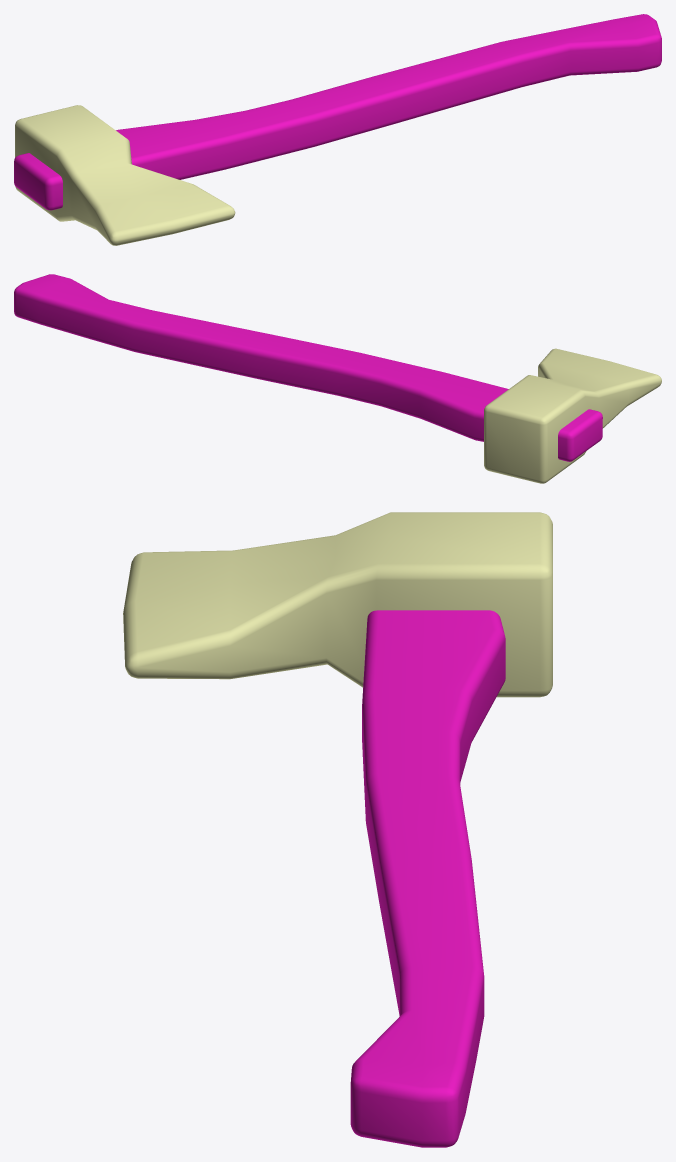
File: CottageHouseFairy5Axe.fbx
3 views of the same model, one above another, from view 1: azimuth 30°, elevation 25°; view 2: azimuth 150°, elevation 25°; view 3: azimuth 270°, elevation 25° (orthographic). The views are drawn at different scales.
Parts seen in each view (by area): view 1: Cube.006; view 2: Cube.006; view 3: Cube.006.
Boxes of the visible parts, <box> form: Cube.006: <box>14,14,661,245</box>; Cube.006: <box>14,274,661,483</box>; Cube.006: <box>123,512,552,1147</box>.
Size of the model in its own units: 463 by 51.24 by 151.
